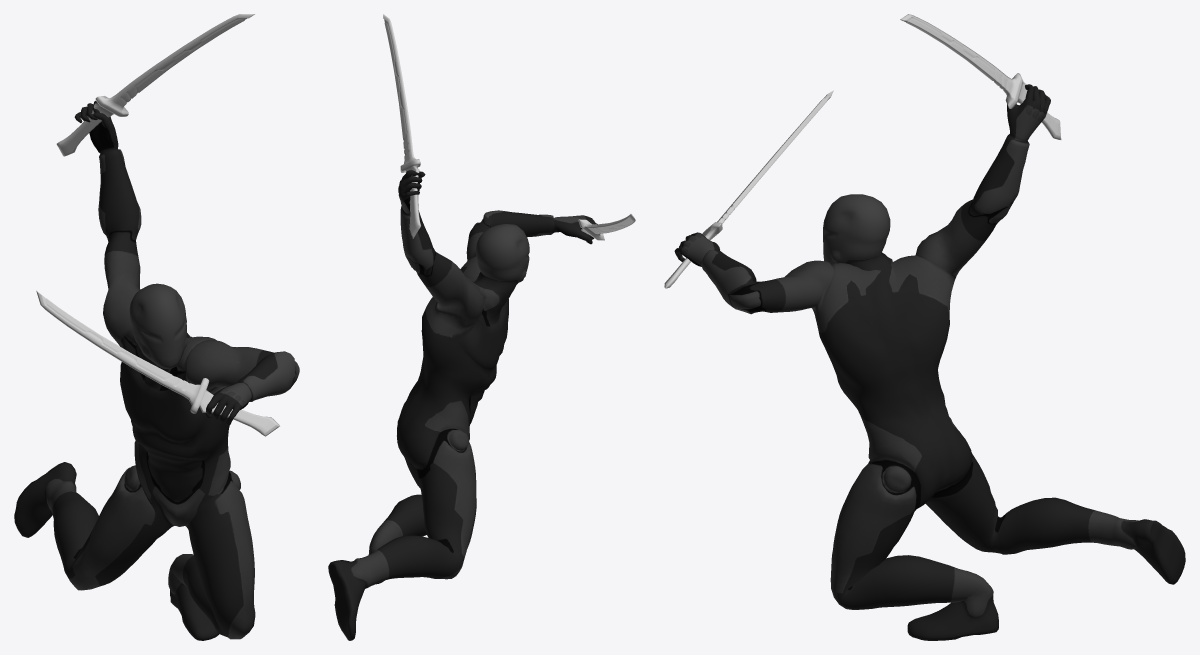
3 renders of one model, left to right at view 1: azimuth 30°, elevation 25°; view 2: azimuth 150°, elevation 25°; view 3: azimuth 270°, elevation 25°, orthographic. The views are drawn at different scales.
Visible parts, largest first — view 1: Cyborg_Ninja_Killer, Sword_l, Sword_l001; view 2: Cyborg_Ninja_Killer, Sword_l001, Sword_l; view 3: Cyborg_Ninja_Killer, Sword_l001, Sword_l.
Part boxes in pixels (left/top/right/bottom): Cyborg_Ninja_Killer: left=14, top=101, right=299, bottom=640; Sword_l: left=36, top=290, right=279, bottom=436; Sword_l001: left=56, top=14, right=254, bottom=156; Cyborg_Ninja_Killer: left=328, top=170, right=597, bottom=640; Sword_l001: left=383, top=14, right=421, bottom=238; Sword_l: left=578, top=214, right=635, bottom=240; Cyborg_Ninja_Killer: left=674, top=84, right=1185, bottom=640; Sword_l001: left=900, top=14, right=1061, bottom=139; Sword_l: left=664, top=90, right=833, bottom=288.
Size of the model in its own units: 92.94 by 218 by 163.
